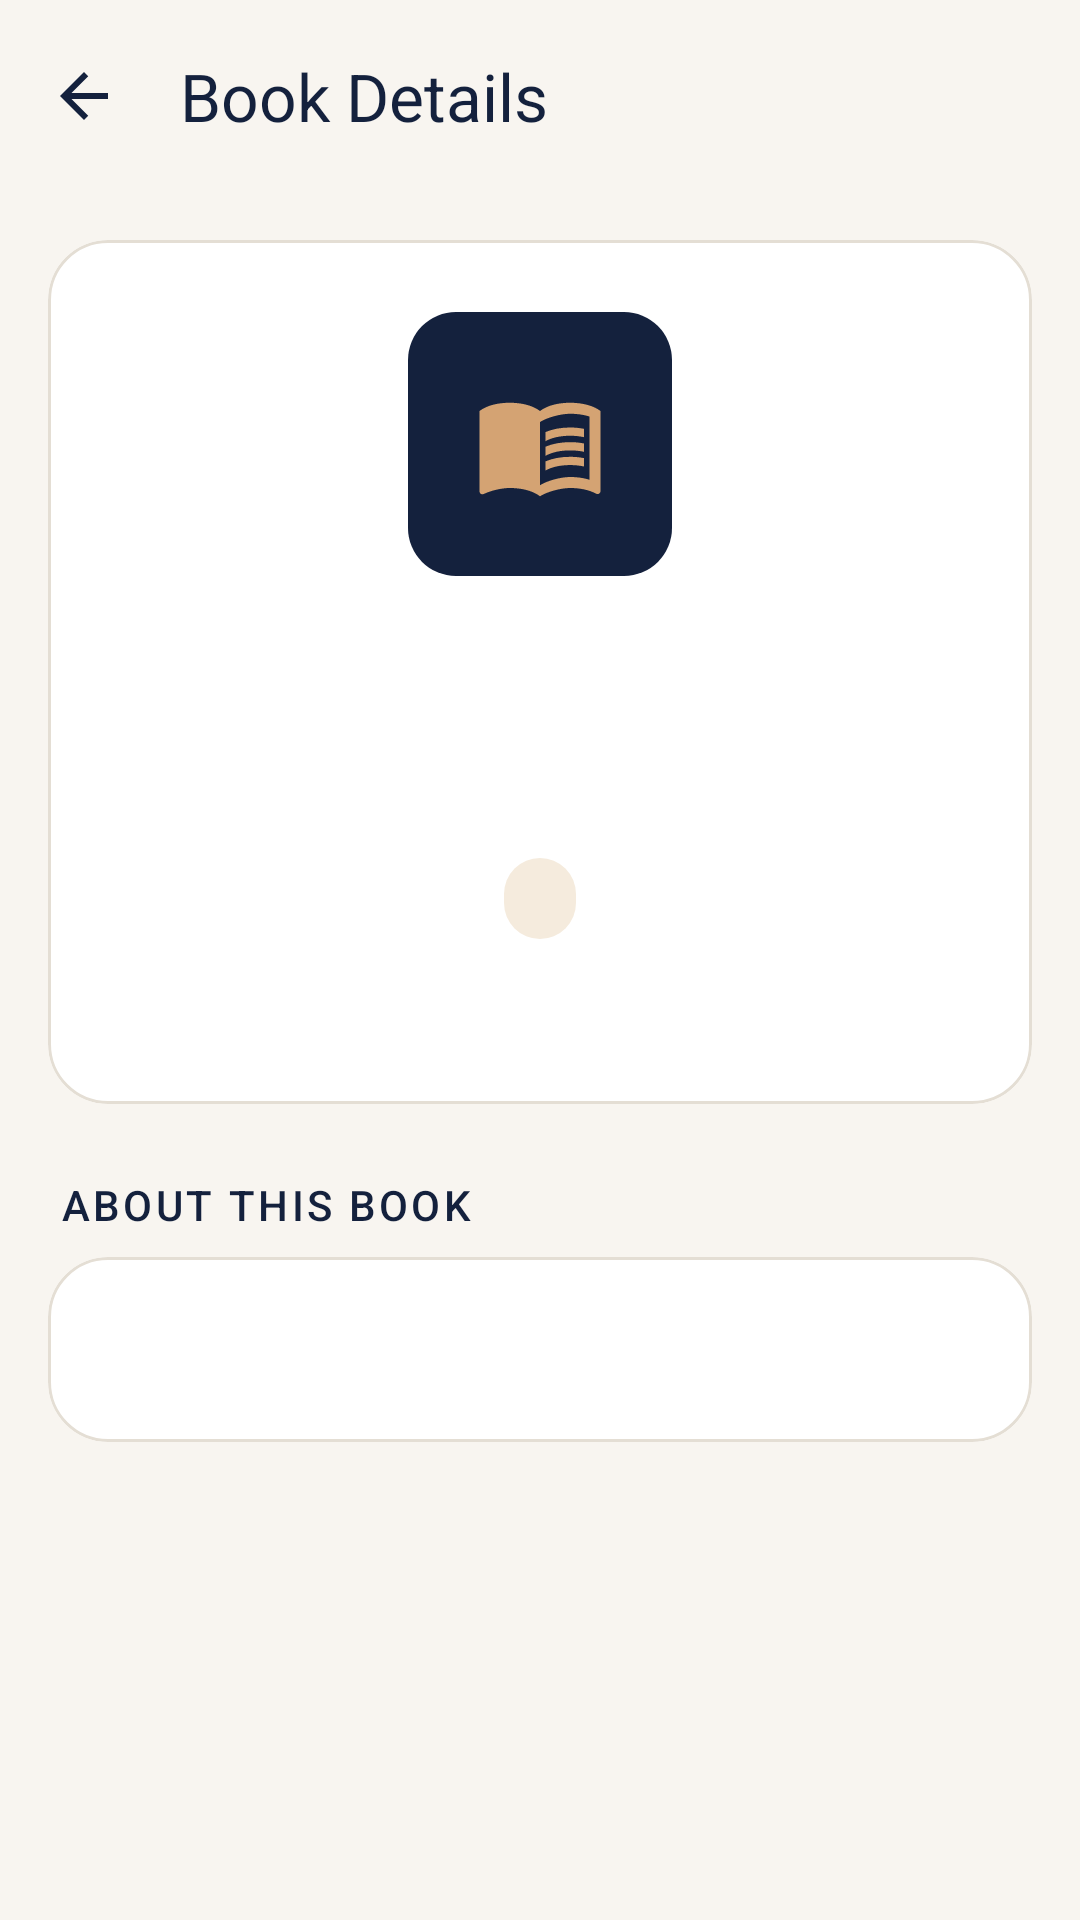

Named icons in this screenshot (1080x1920) and their bounding boxes, (x1, y1, x2, y2):
book: (408, 312, 672, 576)
